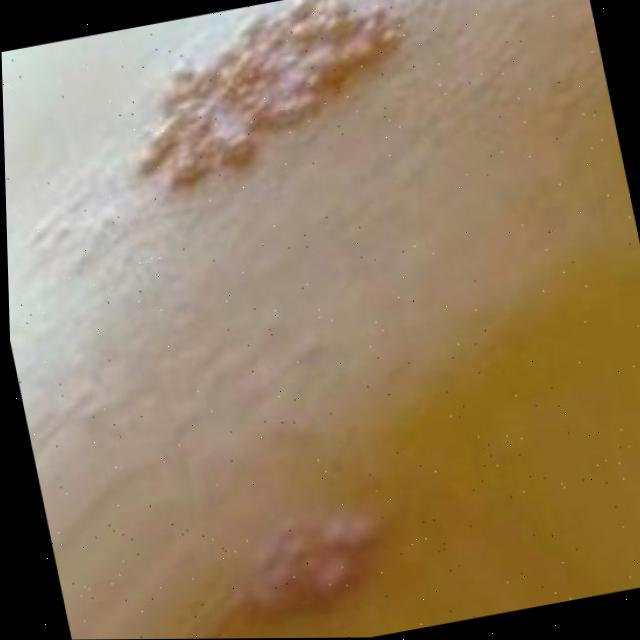Shingles: (106, 0, 436, 202), (218, 489, 405, 629)
